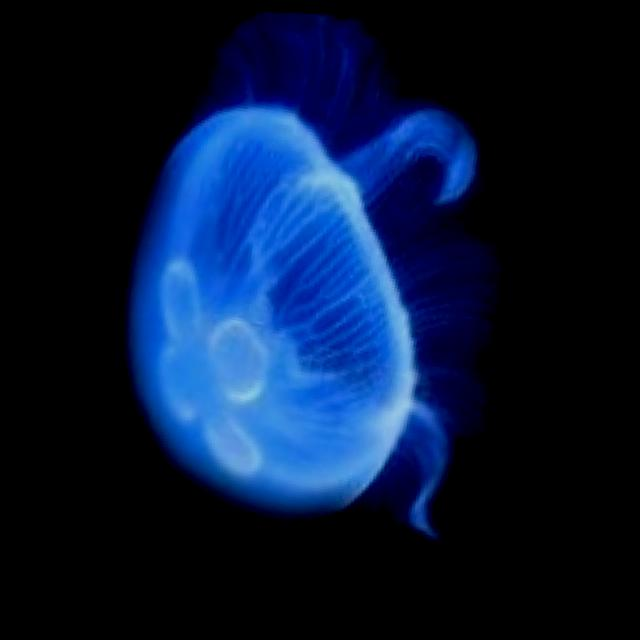Moon-jellyfish: (94, 4, 555, 550)
